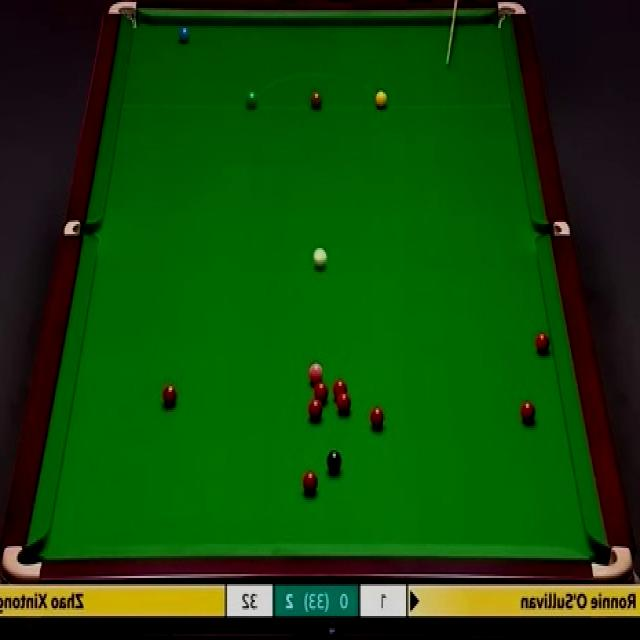pocket: (588, 543, 634, 580), (3, 541, 44, 577), (107, 0, 142, 32), (495, 0, 531, 29), (64, 220, 102, 238), (533, 223, 571, 235)
